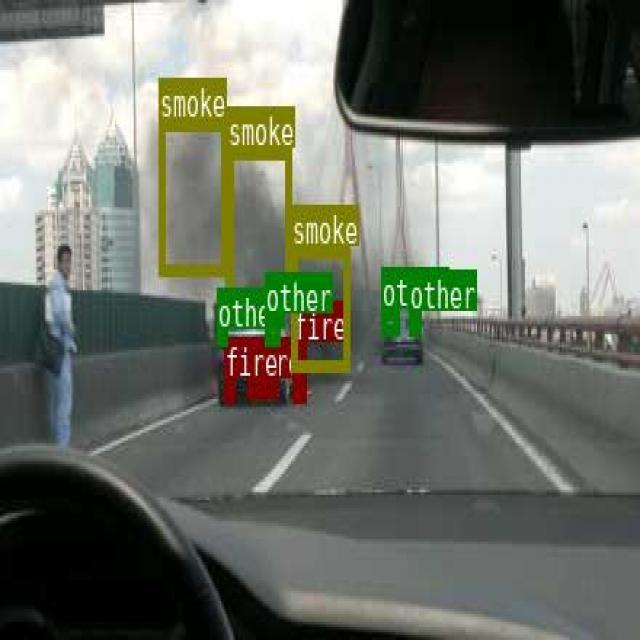fire: (292, 341, 305, 400), (247, 377, 276, 396), (223, 378, 234, 400)
smoke: (157, 117, 226, 273), (226, 146, 291, 298), (290, 245, 348, 369)
